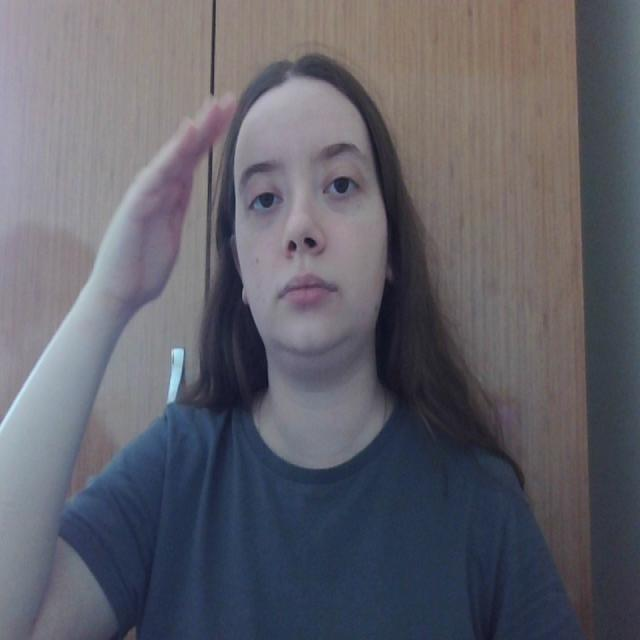Merhaba: (86, 83, 271, 325)
